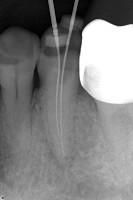Furcation Involvement: (44, 138, 76, 168)
